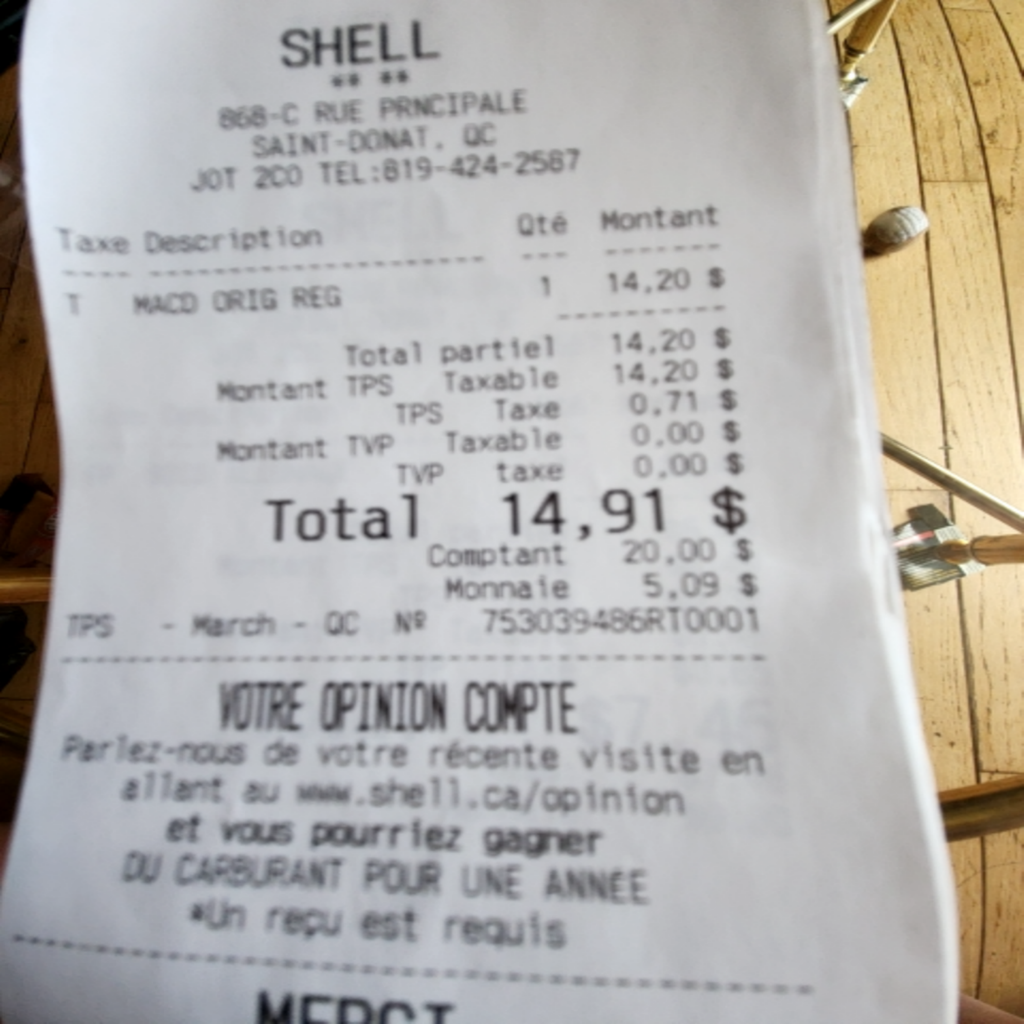recipt: (0, 4, 961, 1016)
